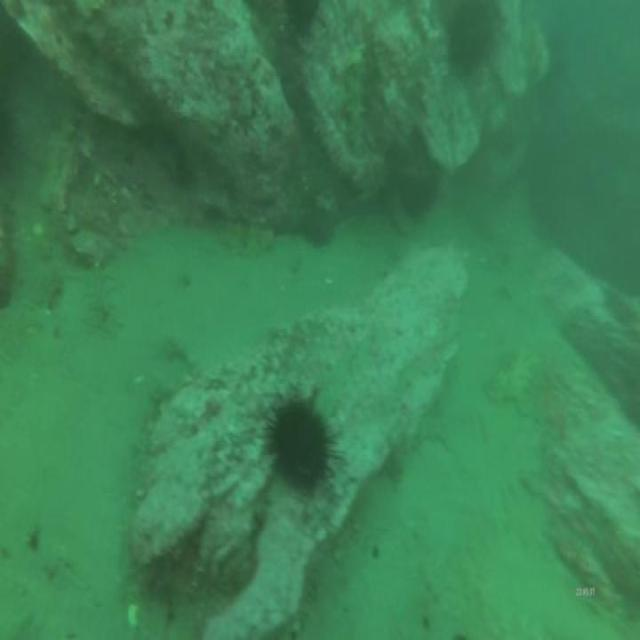echinus: (262, 384, 339, 506), (446, 0, 502, 79), (393, 166, 442, 226), (300, 198, 334, 251), (286, 0, 324, 43)
holothurian: (208, 212, 276, 265), (341, 60, 371, 164)
